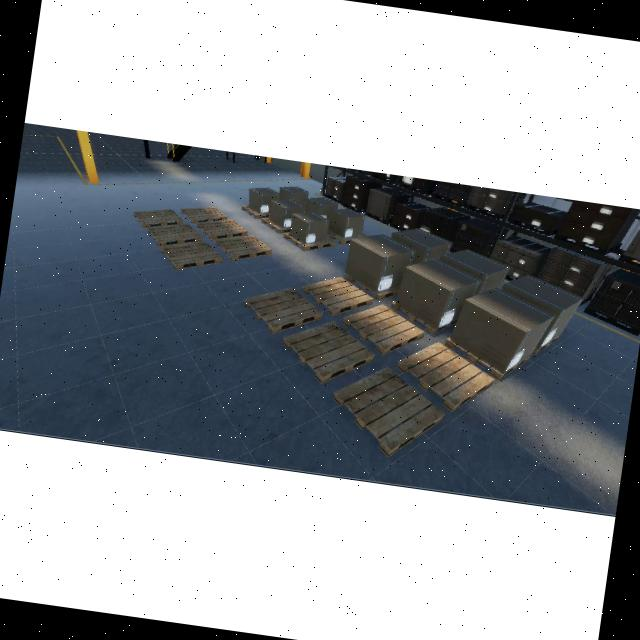wooden_pallet: (334, 367, 445, 456), (397, 342, 493, 413), (283, 321, 375, 385), (343, 304, 424, 356), (443, 336, 532, 381), (244, 288, 322, 335), (302, 278, 373, 315), (391, 299, 457, 335), (160, 240, 223, 270), (215, 235, 272, 261), (347, 274, 400, 300), (147, 224, 202, 247), (283, 230, 336, 251), (197, 219, 247, 240), (133, 209, 183, 228), (180, 206, 227, 224), (262, 216, 291, 234)
